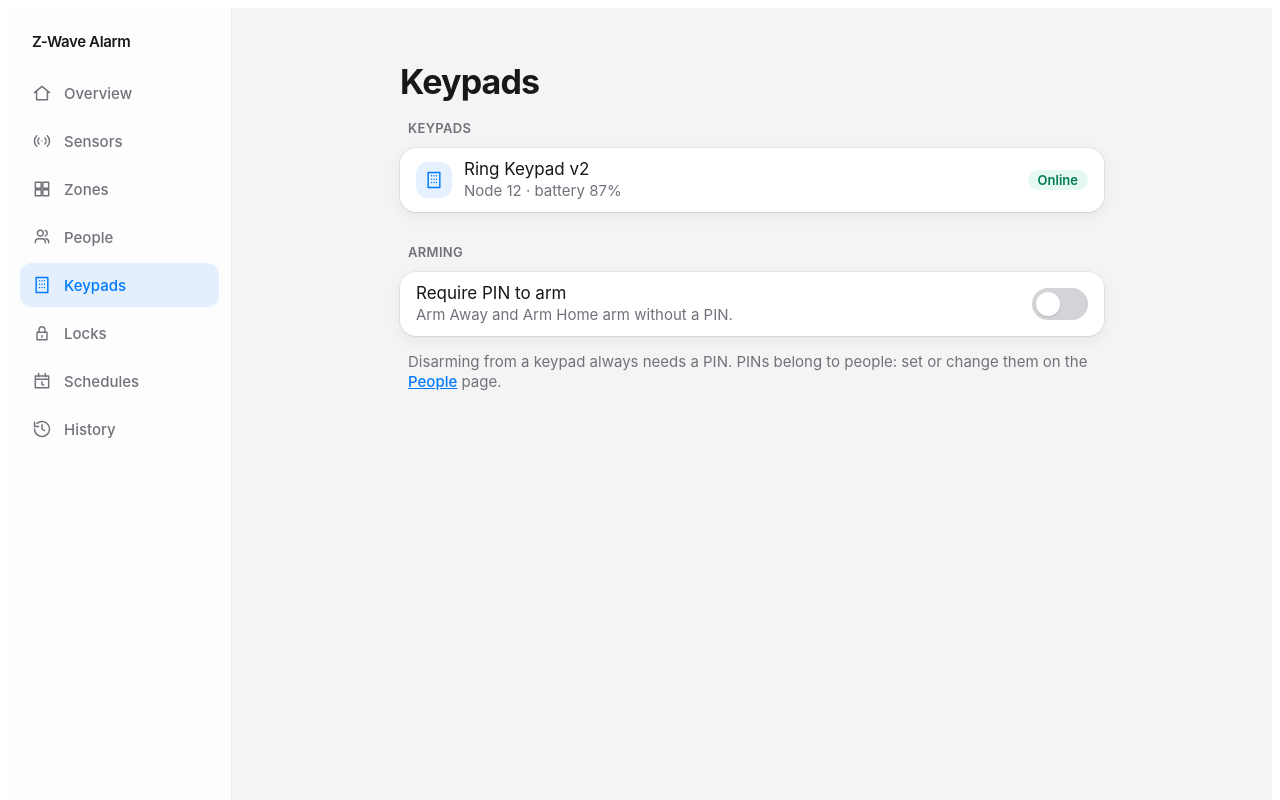
Test: keypads › shows the service's refusal and leaves the switch as it was
Click the switch named "Require PIN to arm" at point(1060, 304), box left=1032, top=288, right=1088, bottom=320
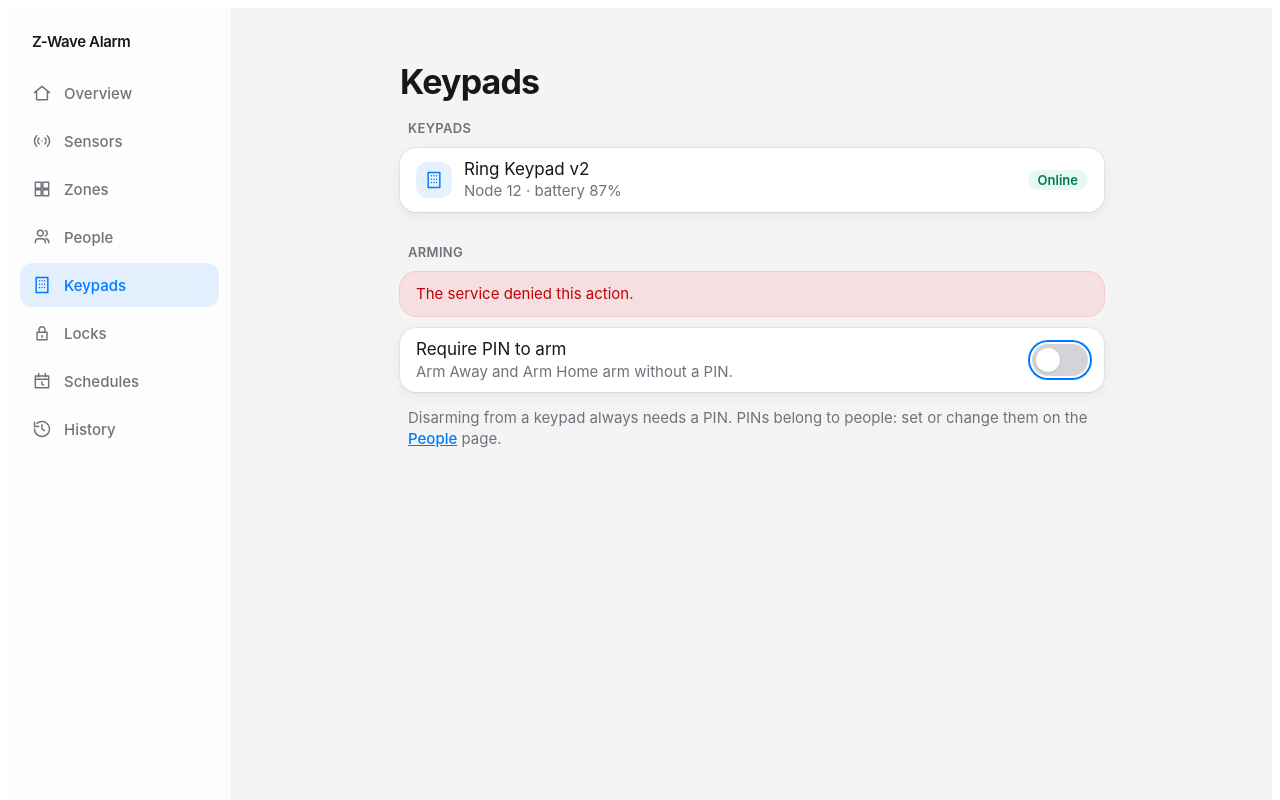
Expected: the message reads "The service denied this action.", left=416, top=284, right=634, bottom=302
